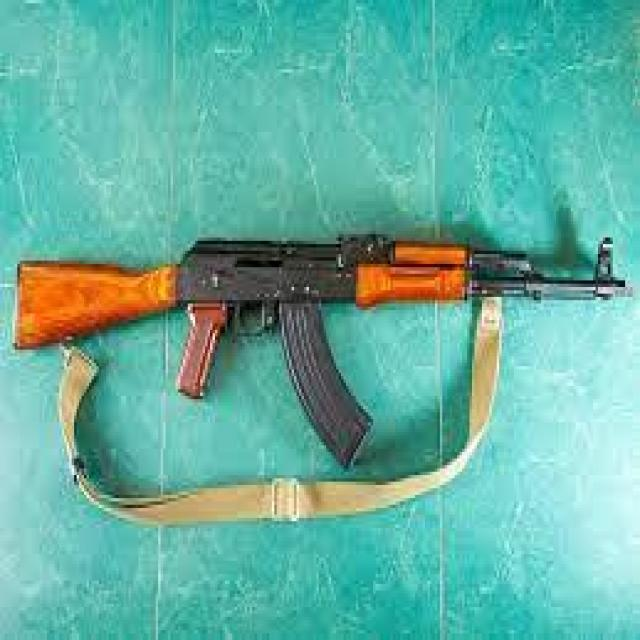rifle: (12, 231, 630, 465)
